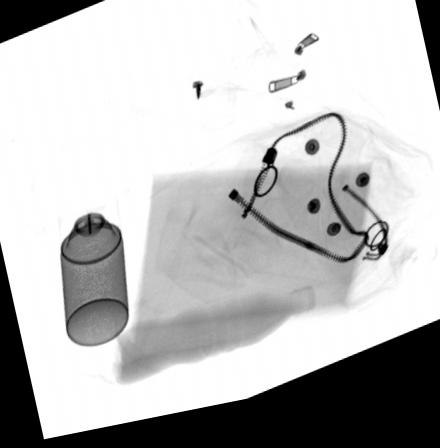Sprayer: (55, 188, 129, 351)
